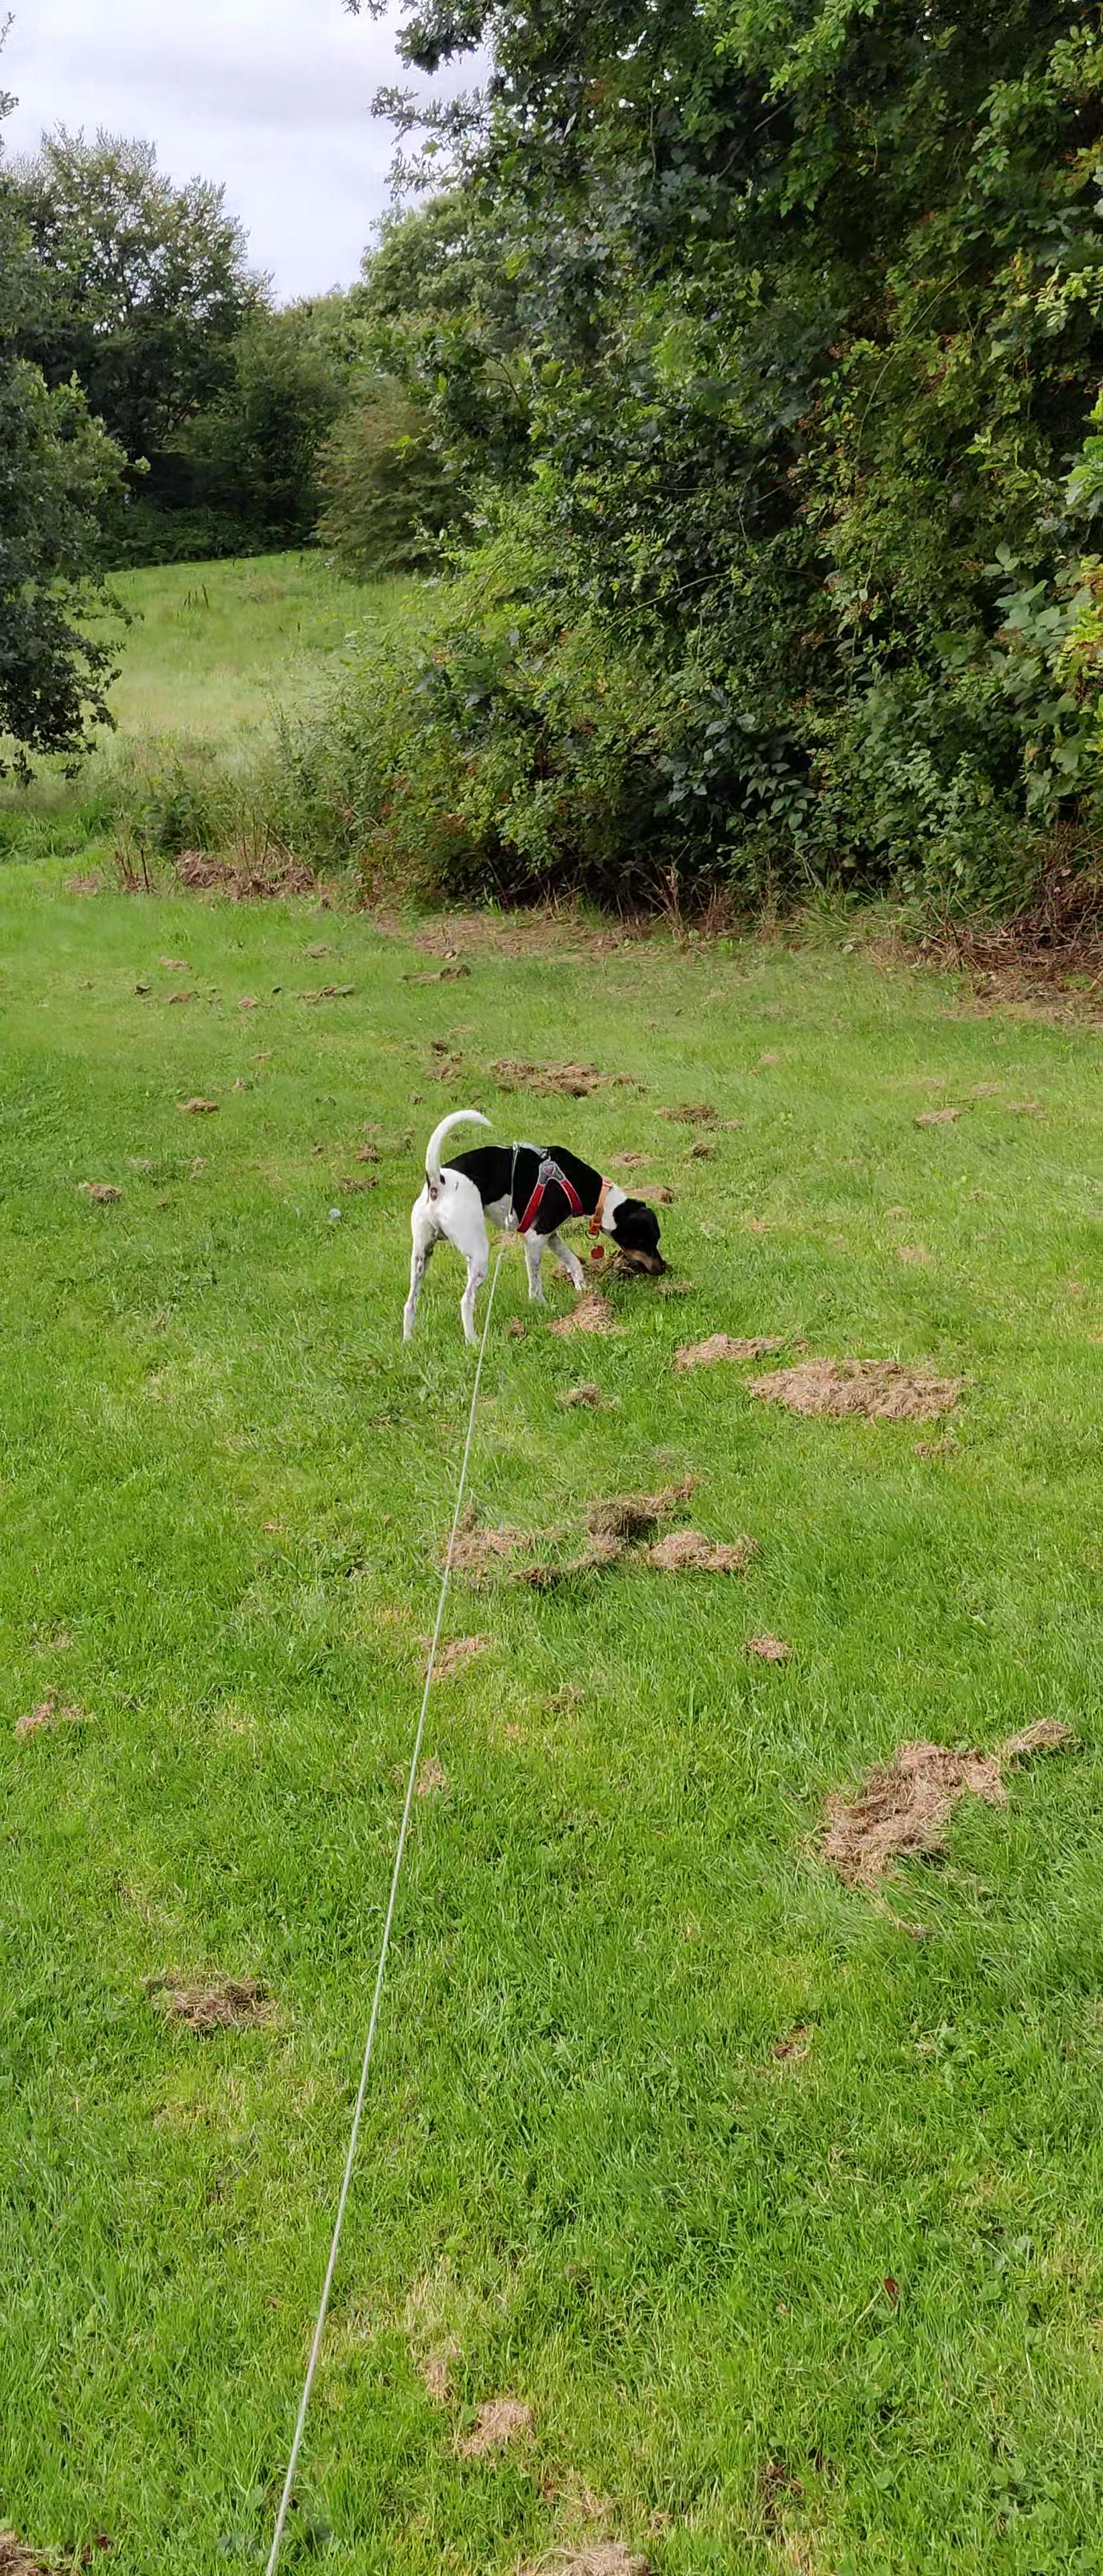Dog: (380, 1089, 684, 1354)
